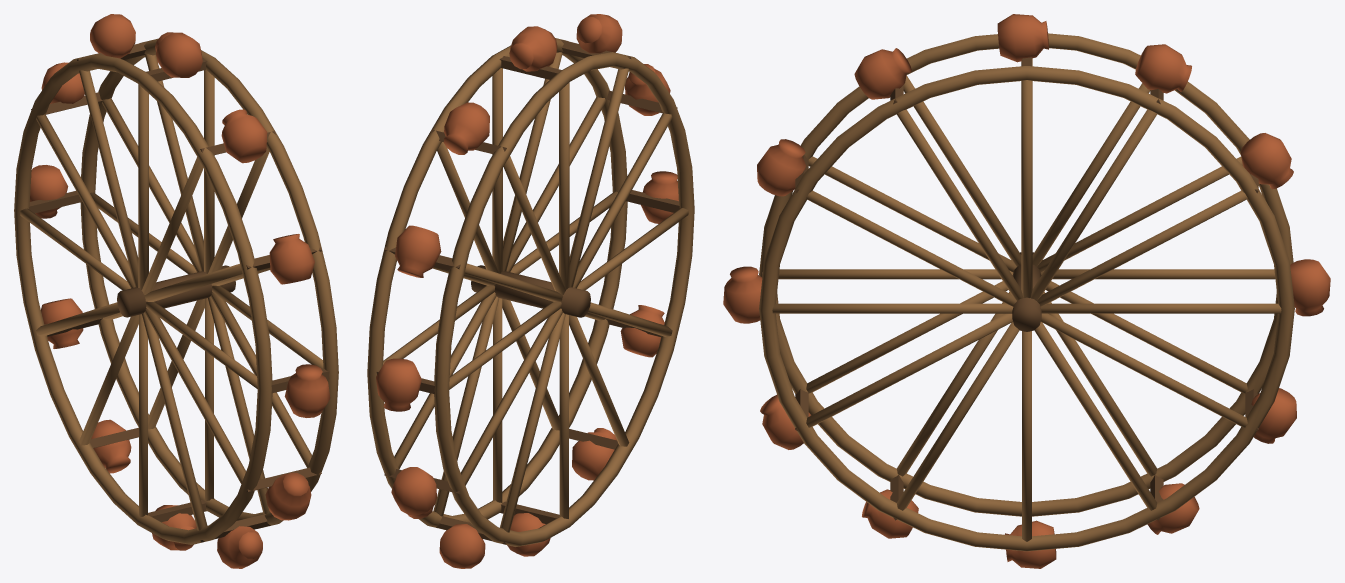
The model's file is schoepfrad_rad.glb.
The picture shows the model from 3 angles, left to right: view 1: azimuth 30°, elevation 25°; view 2: azimuth 150°, elevation 25°; view 3: azimuth 270°, elevation 25°; orthographic projection. The views are drawn at different scales.
Visible parts, largest first — view 1: Torus; view 2: Torus; view 3: Torus.
Boxes of the visible parts, box(x1,y1,x2,y2) form: Torus: box(14, 14, 338, 568); Torus: box(367, 14, 694, 568); Torus: box(723, 14, 1330, 568).
Bounding box in the file's own units: 0.8 × 3.74 × 3.74.
